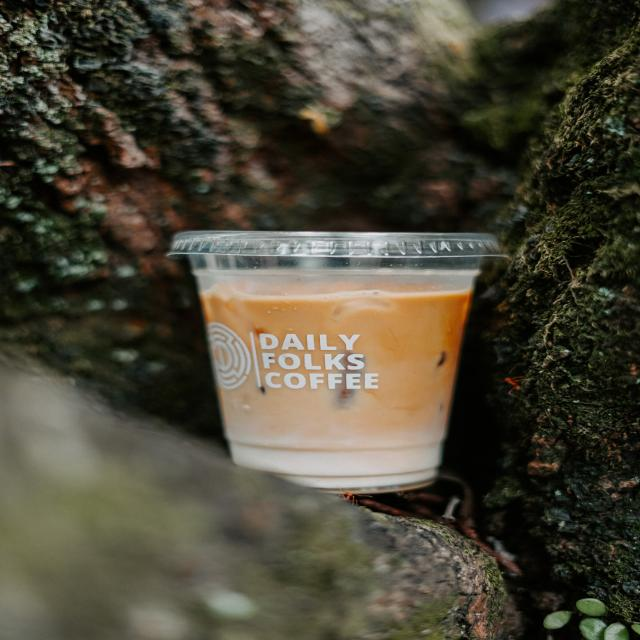cup: (167, 229, 513, 495)
